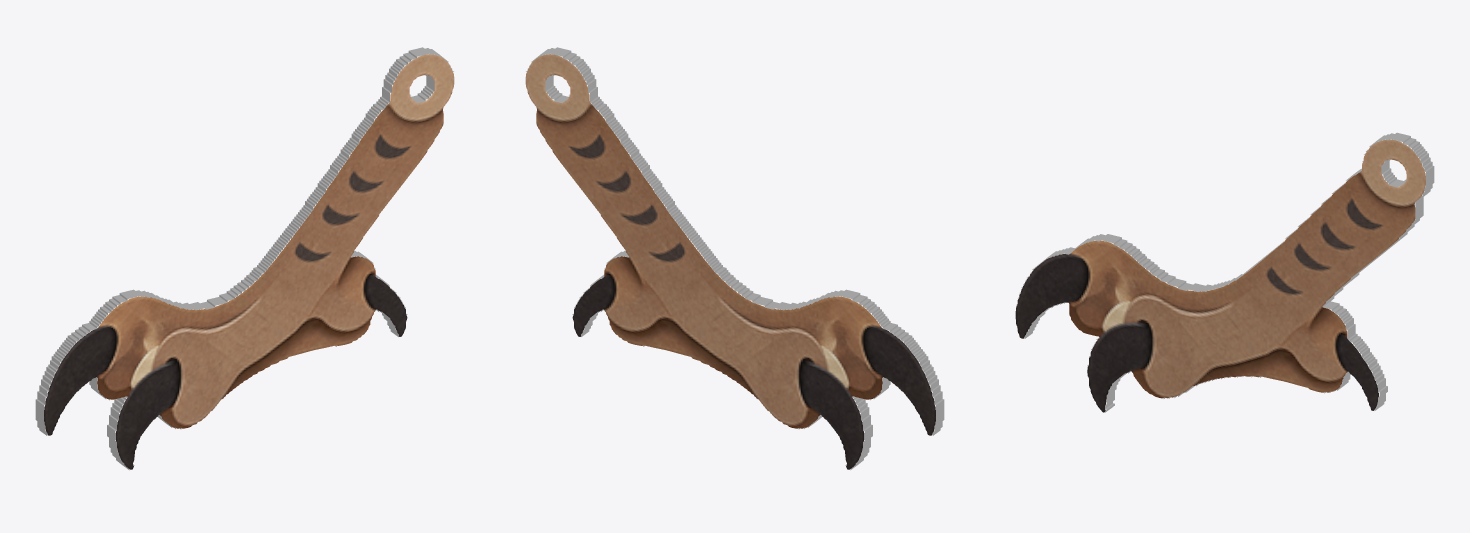
Rendered from Claw01.glb.
3 renders of one model, left to right at view 1: azimuth 30°, elevation 25°; view 2: azimuth 150°, elevation 25°; view 3: azimuth 330°, elevation 25°, orthographic.
Visible parts, largest first — view 1: PaperVolume; view 2: PaperVolume; view 3: PaperVolume.
Boxes of the visible parts, bbox=[...] form: PaperVolume: bbox=[35, 47, 454, 470]; PaperVolume: bbox=[525, 47, 944, 470]; PaperVolume: bbox=[1015, 132, 1434, 412].
Size of the model in its own units: 2.54 by 2.08 by 0.08.
Materials: 3 (2 with a texture image).
